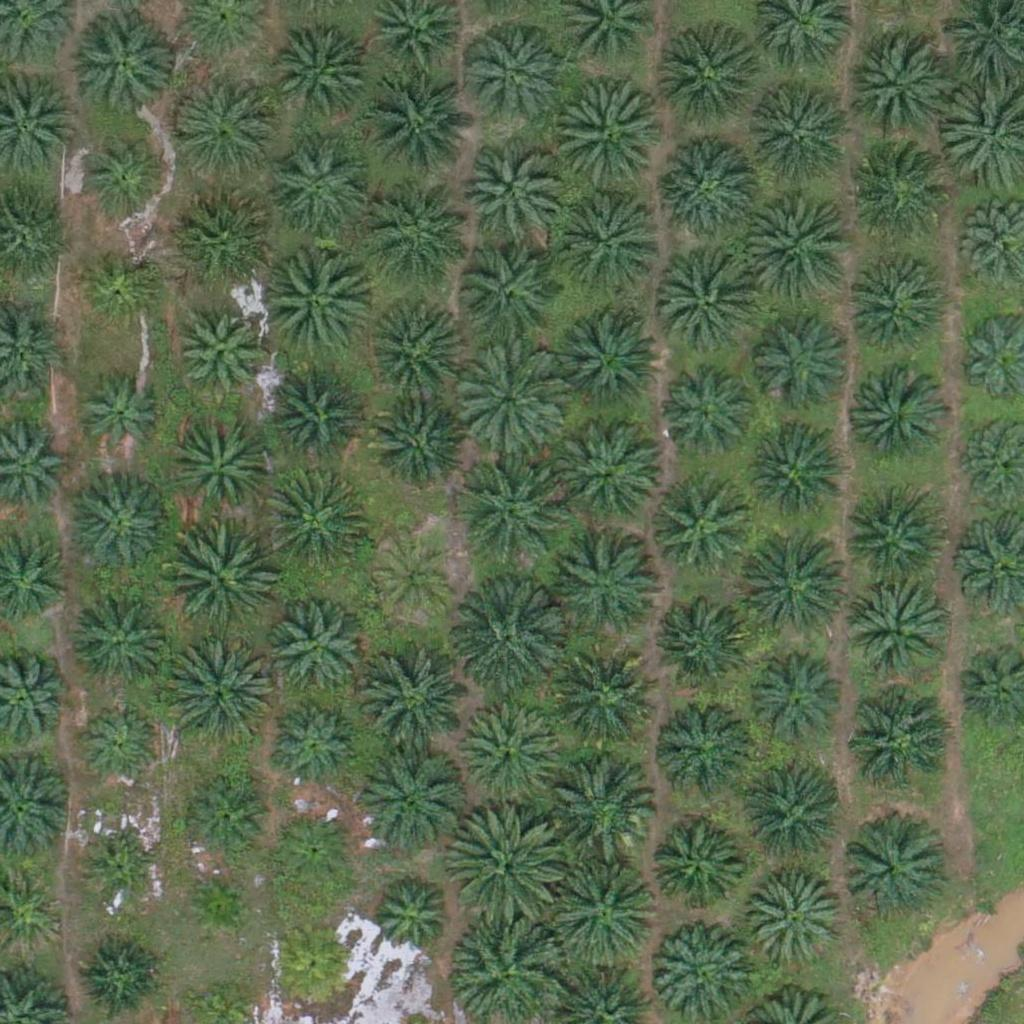Kelapa_Sawit: (451, 457, 564, 571), (252, 243, 365, 356), (551, 81, 664, 194), (743, 188, 856, 301), (544, 750, 657, 863), (451, 583, 564, 696), (161, 636, 274, 749), (162, 524, 275, 637), (749, 78, 861, 192), (547, 851, 659, 965), (449, 803, 561, 917), (172, 70, 284, 183), (361, 70, 473, 183), (452, 342, 564, 455), (553, 185, 665, 298), (852, 27, 964, 140), (739, 528, 851, 641), (260, 466, 372, 579), (358, 649, 470, 762), (353, 742, 465, 855), (72, 13, 172, 114), (184, 189, 284, 290), (266, 136, 366, 237), (257, 365, 357, 466), (360, 296, 460, 397), (370, 196, 470, 297), (464, 23, 564, 124), (461, 139, 561, 240), (559, 304, 659, 405), (654, 27, 754, 128), (660, 135, 760, 236), (659, 260, 759, 361), (752, 312, 852, 413), (845, 147, 945, 248), (849, 262, 949, 363), (850, 370, 950, 471), (839, 822, 939, 923), (746, 871, 846, 972), (644, 816, 744, 917), (842, 580, 942, 681), (842, 492, 942, 593), (746, 424, 846, 525), (460, 704, 560, 805), (265, 598, 365, 699), (169, 417, 269, 518), (67, 477, 167, 578), (69, 590, 169, 691), (272, 22, 372, 122), (454, 246, 554, 346), (744, 773, 844, 873), (848, 690, 948, 790), (744, 649, 844, 749), (656, 694, 756, 794), (648, 474, 748, 574), (653, 590, 753, 690), (559, 423, 659, 523), (559, 540, 659, 640), (551, 653, 651, 753), (361, 393, 461, 493), (269, 918, 357, 1007), (78, 241, 166, 329), (78, 128, 166, 216), (173, 309, 261, 397), (269, 805, 357, 893), (370, 536, 458, 624), (74, 703, 162, 791), (271, 701, 358, 790), (73, 373, 160, 461), (662, 369, 749, 457), (76, 932, 163, 1020), (365, 873, 452, 961), (180, 775, 267, 863), (180, 867, 255, 943), (86, 838, 161, 913)
